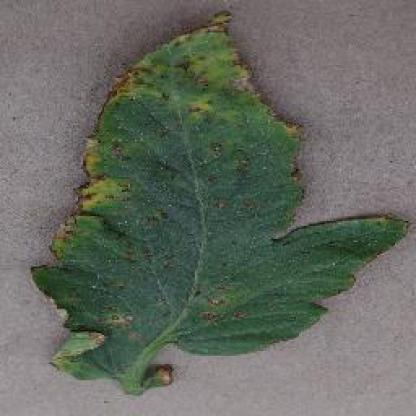bad leaf: (65, 4, 305, 240)
